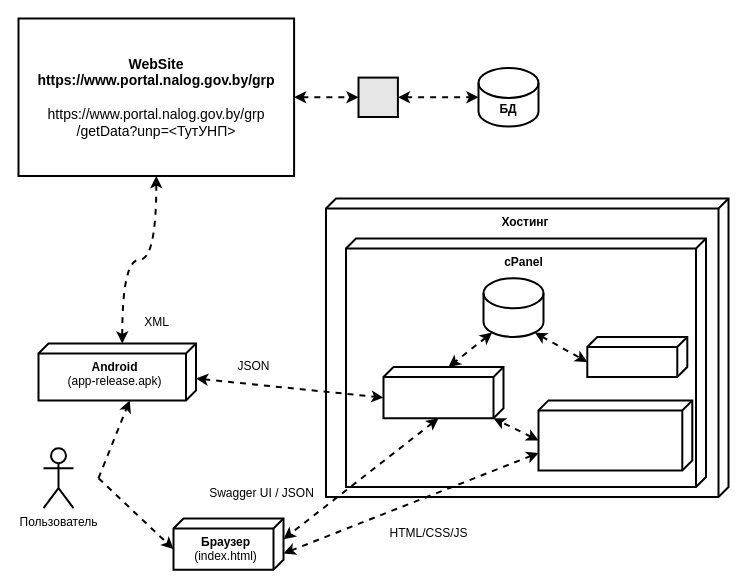
This 746x588 diagram has some shape labels left out. Here are the shapes that lost their labels. From the top down, the centre of each, then its label:
point (513, 307): MySQL
point (637, 357): phpmyadmin
point (443, 392): Серверная часть (NodeJS)
point (615, 435): Веб-сайт и панель администратора (Apache)
